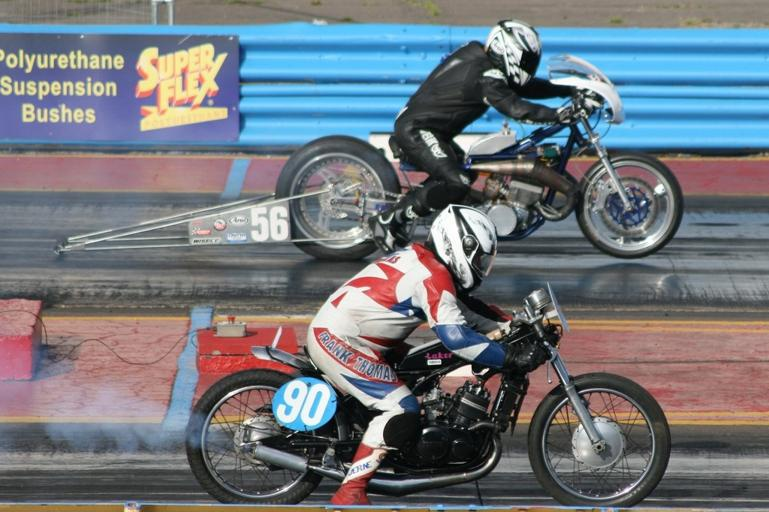non-vehicle: (181, 276, 675, 509), (264, 51, 686, 266)
